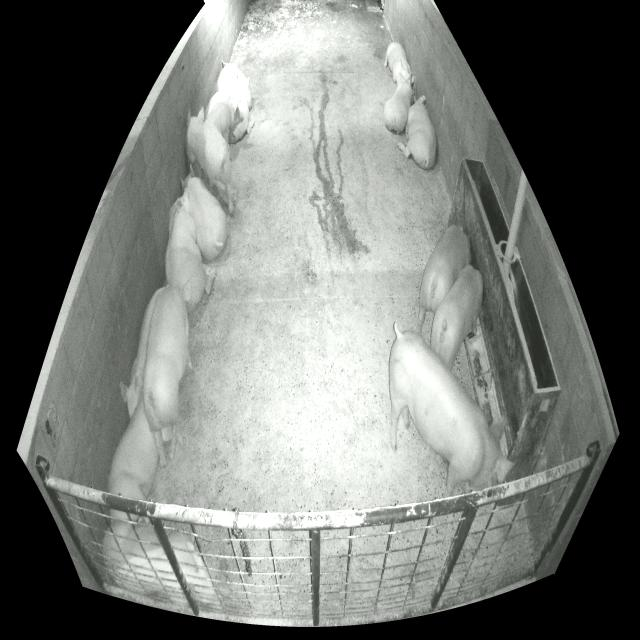pig: (389, 322, 515, 496), (103, 519, 215, 609), (142, 280, 192, 468), (120, 286, 168, 418), (430, 266, 483, 373), (418, 224, 470, 332), (108, 394, 158, 500), (165, 188, 208, 310), (186, 107, 234, 216), (181, 164, 228, 261), (216, 60, 255, 143), (397, 95, 436, 169), (206, 91, 244, 146), (384, 72, 414, 133), (384, 42, 411, 86), (205, 92, 228, 119)
